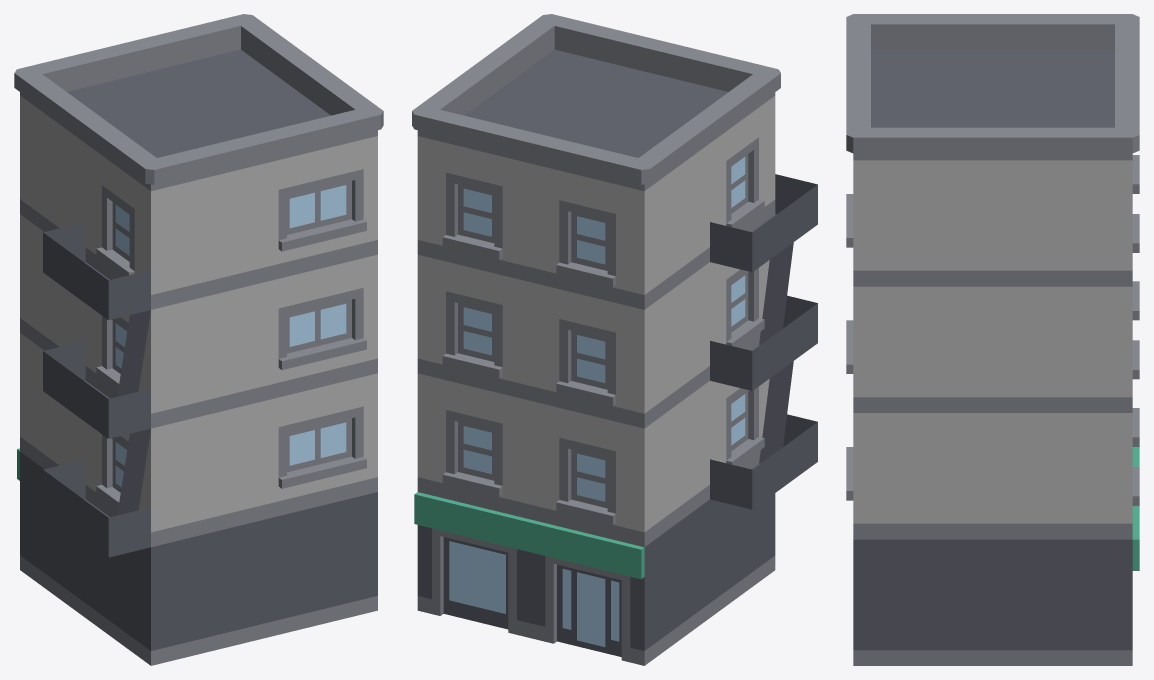
The model's file is large_buildingC.obj.
3 renders of one model, left to right at view 1: azimuth 30°, elevation 25°; view 2: azimuth 150°, elevation 25°; view 3: azimuth 270°, elevation 25°, orthographic. The views are drawn at different scales.
Visible parts, largest first — view 1: large_buildingC; view 2: large_buildingC; view 3: large_buildingC.
Boxes of the visible parts, x1,y1,x2,y2 form: large_buildingC: [14, 14, 383, 665]; large_buildingC: [412, 14, 817, 665]; large_buildingC: [846, 14, 1139, 665].
Size of the model in its own units: 0.97 by 1.68 by 0.84.
